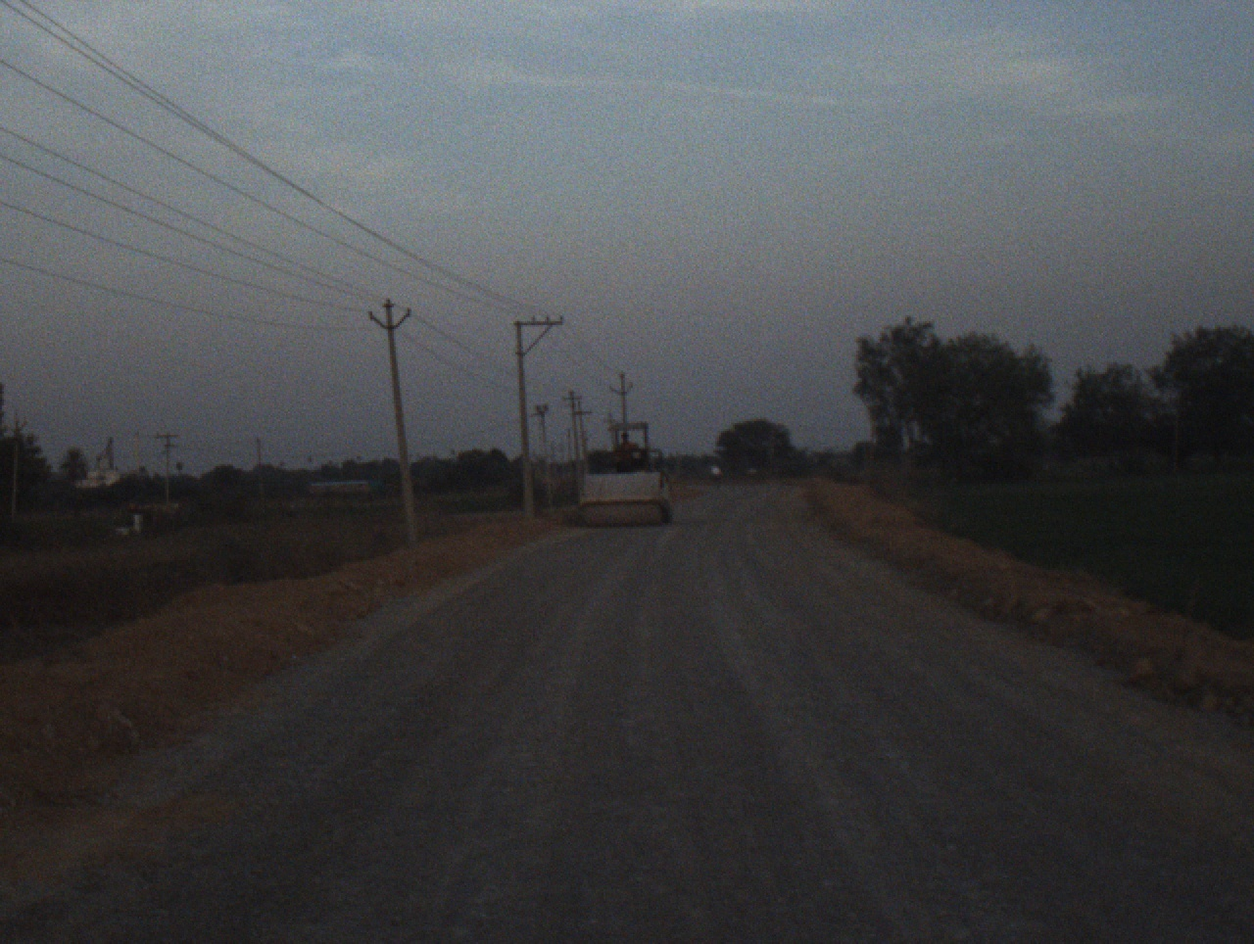rider: (713, 463, 723, 477)
vehicle fallback: (567, 418, 676, 533)
